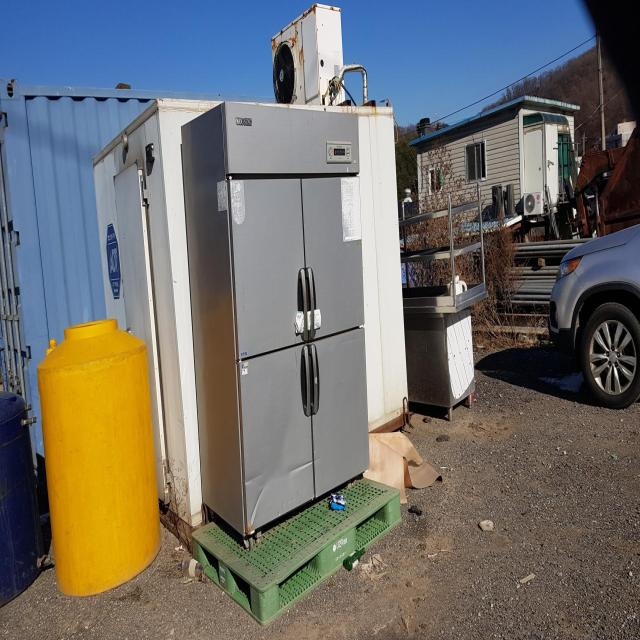refrigerator: (181, 103, 369, 542)
